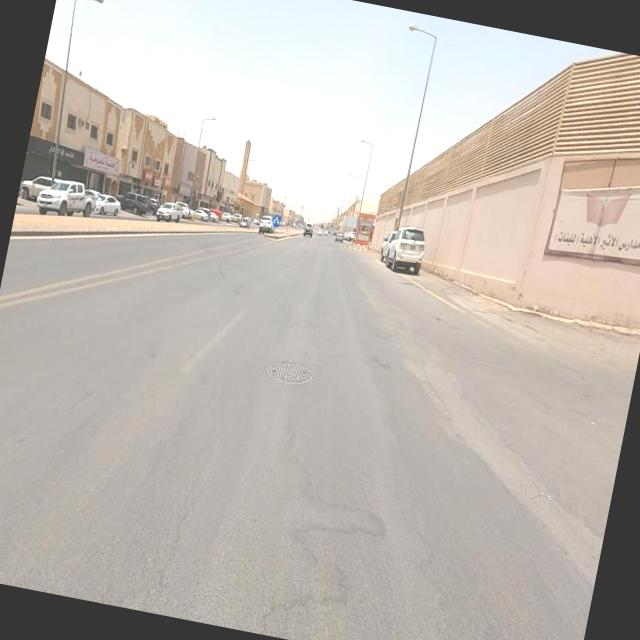debris: (470, 110, 640, 331)
